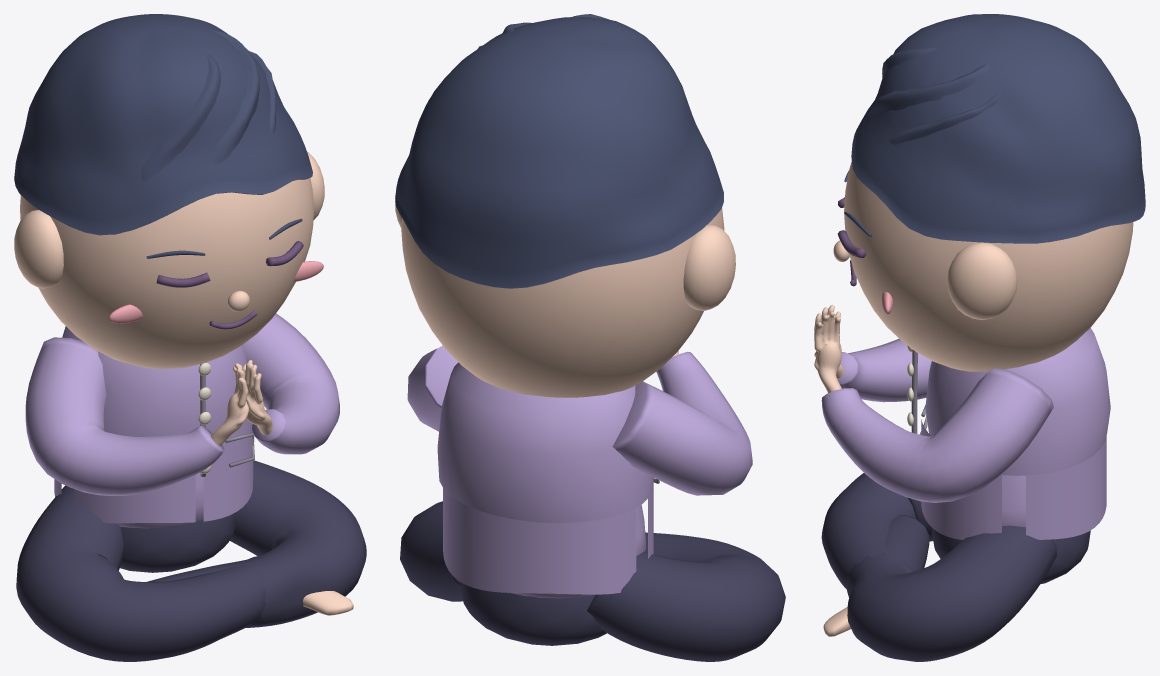
File: meditator_male_cross_prayer_undercut_p07a1.glb
The picture shows the model from 3 angles, left to right: view 1: azimuth 30°, elevation 25°; view 2: azimuth 150°, elevation 25°; view 3: azimuth 270°, elevation 25°; orthographic projection. The views are drawn at different scales.
Parts seen in each view (by area): view 1: hair_neat_male_tapered_undercut_p07a1_object, ao_ba_ba_pants_SeatRoot_object, ao_ba_ba_top_UpperBodyBreath_object, skin_rose_cream_UpperBodyBreath_object, eyes_mauve_UpperBodyBreath_object, skin_rose_cream_SeatRoot_ankle_instep_toes_p05e_object, skin_blush_UpperBodyBreath_object; view 2: hair_neat_male_tapered_undercut_p07a1_object, ao_ba_ba_top_UpperBodyBreath_object, skin_rose_cream_UpperBodyBreath_object, ao_ba_ba_pants_SeatRoot_object; view 3: hair_neat_male_tapered_undercut_p07a1_object, ao_ba_ba_top_UpperBodyBreath_object, skin_rose_cream_UpperBodyBreath_object, ao_ba_ba_pants_SeatRoot_object, ao_ba_ba_placket_UpperBodyBreath_object, eyes_mauve_UpperBodyBreath_object, skin_rose_cream_SeatRoot_ankle_instep_toes_p05e_object.
Part boxes in pixels (x1=…): hair_neat_male_tapered_undercut_p07a1_object: x1=14, y1=14, x2=312, y2=258; ao_ba_ba_pants_SeatRoot_object: x1=16, y1=460, x2=366, y2=661; ao_ba_ba_top_UpperBodyBreath_object: x1=25, y1=313, x2=339, y2=528; skin_rose_cream_UpperBodyBreath_object: x1=14, y1=151, x2=324, y2=446; eyes_mauve_UpperBodyBreath_object: x1=156, y1=241, x2=303, y2=329; skin_rose_cream_SeatRoot_ankle_instep_toes_p05e_object: x1=303, y1=591, x2=353, y2=615; skin_blush_UpperBodyBreath_object: x1=109, y1=261, x2=323, y2=323; hair_neat_male_tapered_undercut_p07a1_object: x1=395, y1=14, x2=723, y2=288; ao_ba_ba_top_UpperBodyBreath_object: x1=407, y1=346, x2=752, y2=598; skin_rose_cream_UpperBodyBreath_object: x1=395, y1=201, x2=735, y2=397; ao_ba_ba_pants_SeatRoot_object: x1=400, y1=501, x2=785, y2=661; hair_neat_male_tapered_undercut_p07a1_object: x1=844, y1=14, x2=1145, y2=243; ao_ba_ba_top_UpperBodyBreath_object: x1=821, y1=328, x2=1110, y2=539; skin_rose_cream_UpperBodyBreath_object: x1=814, y1=161, x2=1133, y2=392; ao_ba_ba_pants_SeatRoot_object: x1=821, y1=473, x2=1090, y2=661; ao_ba_ba_placket_UpperBodyBreath_object: x1=911, y1=350, x2=927, y2=434; eyes_mauve_UpperBodyBreath_object: x1=837, y1=197, x2=866, y2=286; skin_rose_cream_SeatRoot_ankle_instep_toes_p05e_object: x1=823, y1=607, x2=850, y2=636.
Bounding box in the file's own units: 0.7292 × 1.21 × 0.64.
